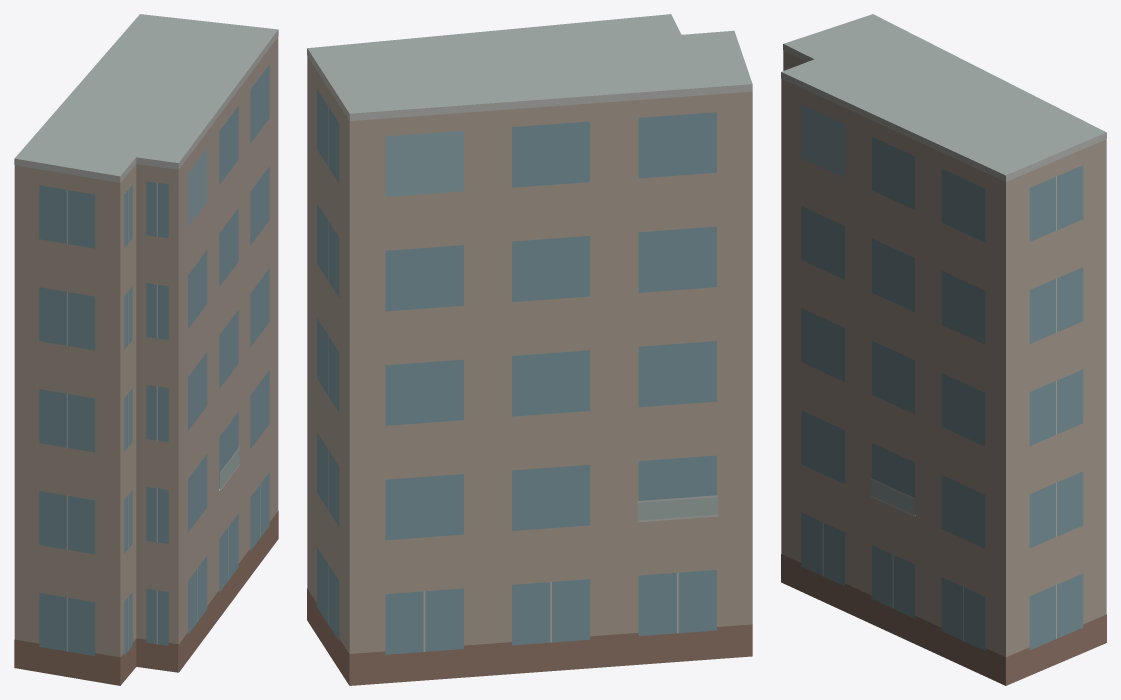
Rendered from survey-upis-32870836.glb.
3 renders of one model, left to right at view 1: azimuth 30°, elevation 25°; view 2: azimuth 150°, elevation 25°; view 3: azimuth 270°, elevation 25°, orthographic. The views are drawn at different scales.
Visible parts, largest first — view 1: survey-upis-32870836.tmp; view 2: survey-upis-32870836.tmp; view 3: survey-upis-32870836.tmp.
Part boxes in pixels (box(x1,y1,x2,y2)): survey-upis-32870836.tmp: box(14, 14, 278, 685); survey-upis-32870836.tmp: box(307, 14, 752, 685); survey-upis-32870836.tmp: box(781, 14, 1106, 685).
Bounding box in the file's own units: 12.76 × 18.8 × 10.88.
